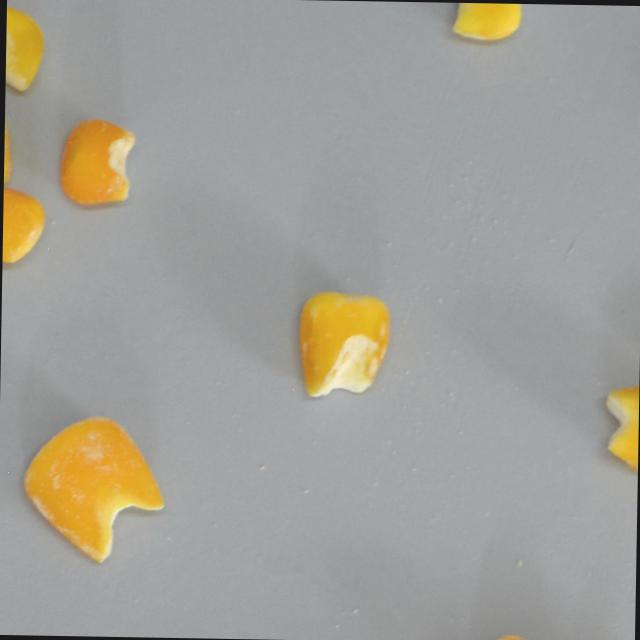no_canjicado: (299, 292, 391, 398), (57, 118, 136, 205), (4, 2, 44, 95), (1, 179, 45, 262), (433, 2, 524, 41), (602, 380, 639, 474)
pelicula: (21, 414, 169, 563)
